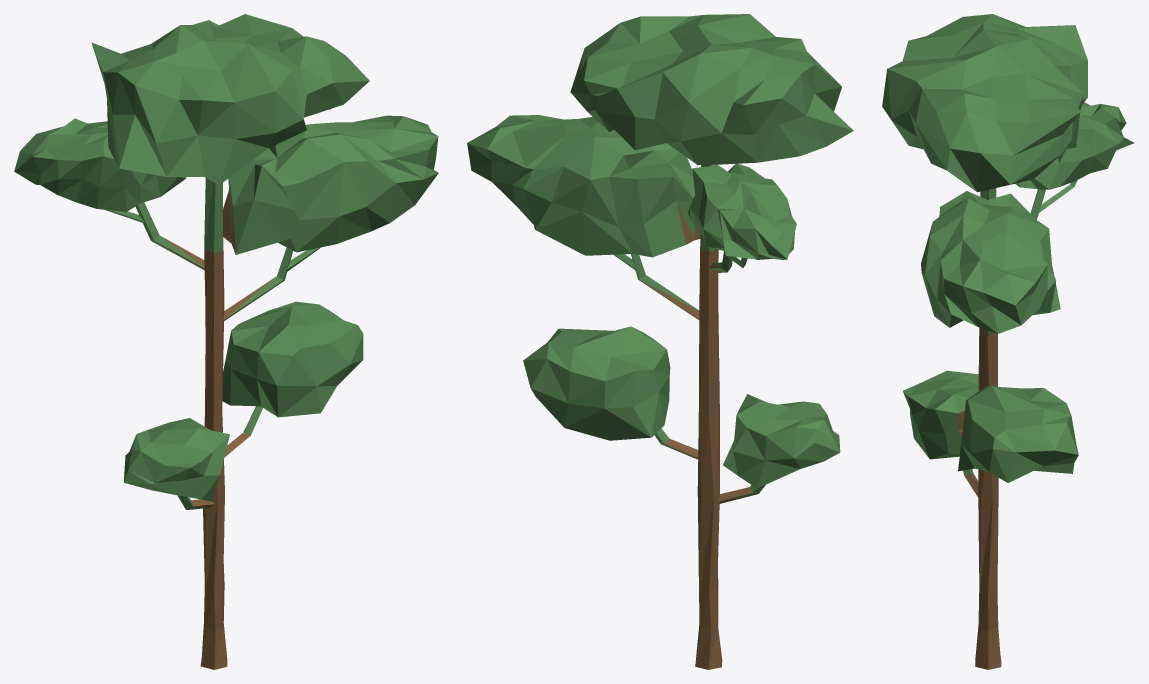
The model's file is tree3d-056.glb.
3 renders of one model, left to right at view 1: azimuth 30°, elevation 25°; view 2: azimuth 150°, elevation 25°; view 3: azimuth 270°, elevation 25°, orthographic.
Visible parts, largest first — view 1: tree3d-056; view 2: tree3d-056; view 3: tree3d-056.
Part boxes in pixels (bbox=[...]): tree3d-056: bbox=[14, 14, 438, 669]; tree3d-056: bbox=[467, 14, 853, 669]; tree3d-056: bbox=[882, 14, 1134, 669].
Bounding box in the file's own units: 0.6125 × 1 × 0.3704.
